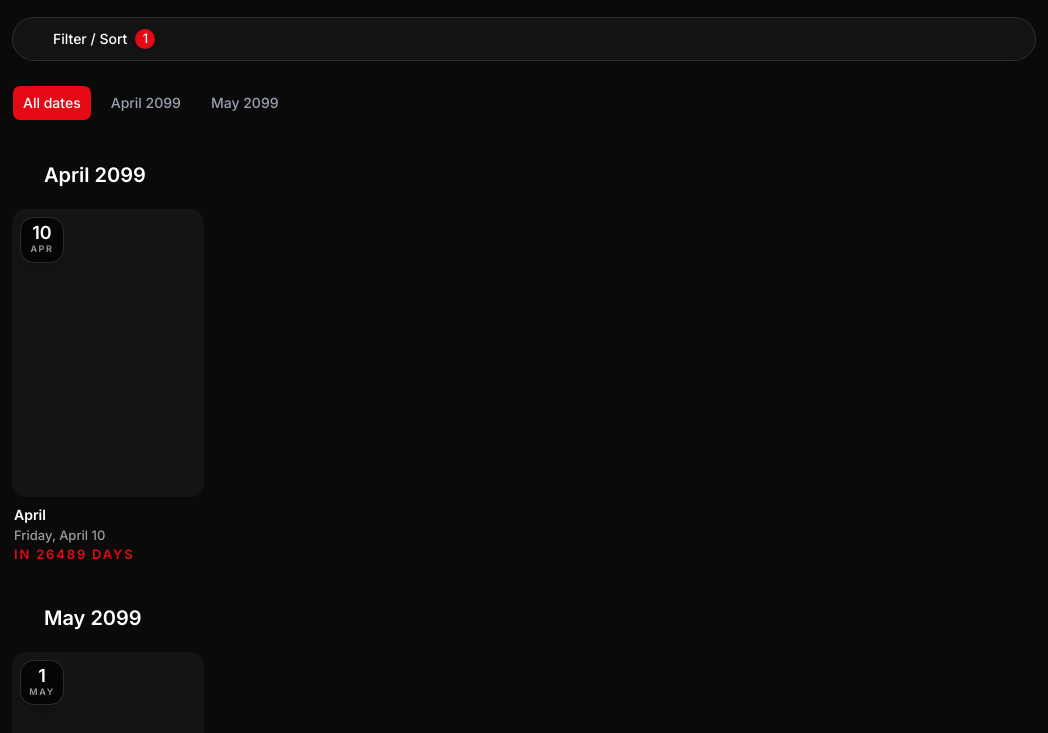
ReleaseCalendarView › uses temporal tabs as date filters without scrolling rows
The image size is (1048, 733).
Expected: the button with test id "release-calendar-temporal-tab-all-dates" is shown, [12, 85, 92, 121]
Expected: the heading "April" is shown, [14, 506, 46, 523]
What coordinates should you click on to do the following:
click the button with test id "release-calendar-temporal-tab-month-2099-05"
I would click on:
 (245, 103)
Its box is [200, 85, 290, 121].
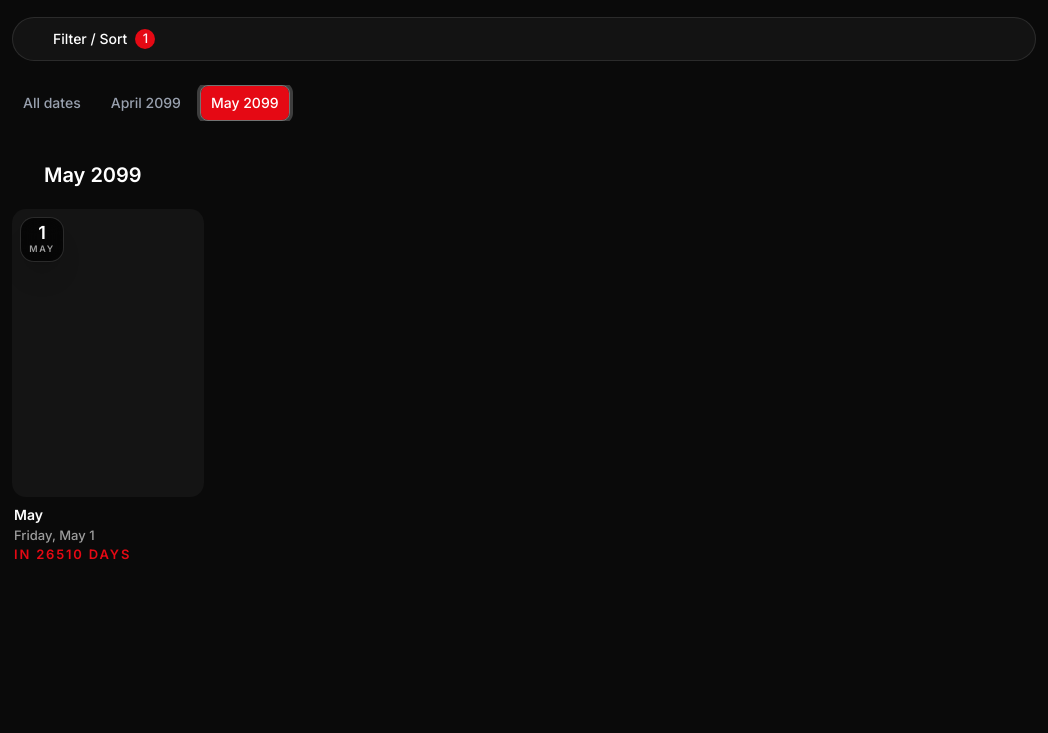
Expected: the heading "May" is shown, [14, 506, 43, 523]
Expected: the button with test id "release-calendar-temporal-tab-month-2099-05" is pressed, [200, 85, 290, 121]
What coordinates should you click on to do the following:
click the button with test id "release-calendar-temporal-tab-all-dates"
I would click on:
 (52, 103)
Its box is [12, 85, 92, 121].
(page scrolled)
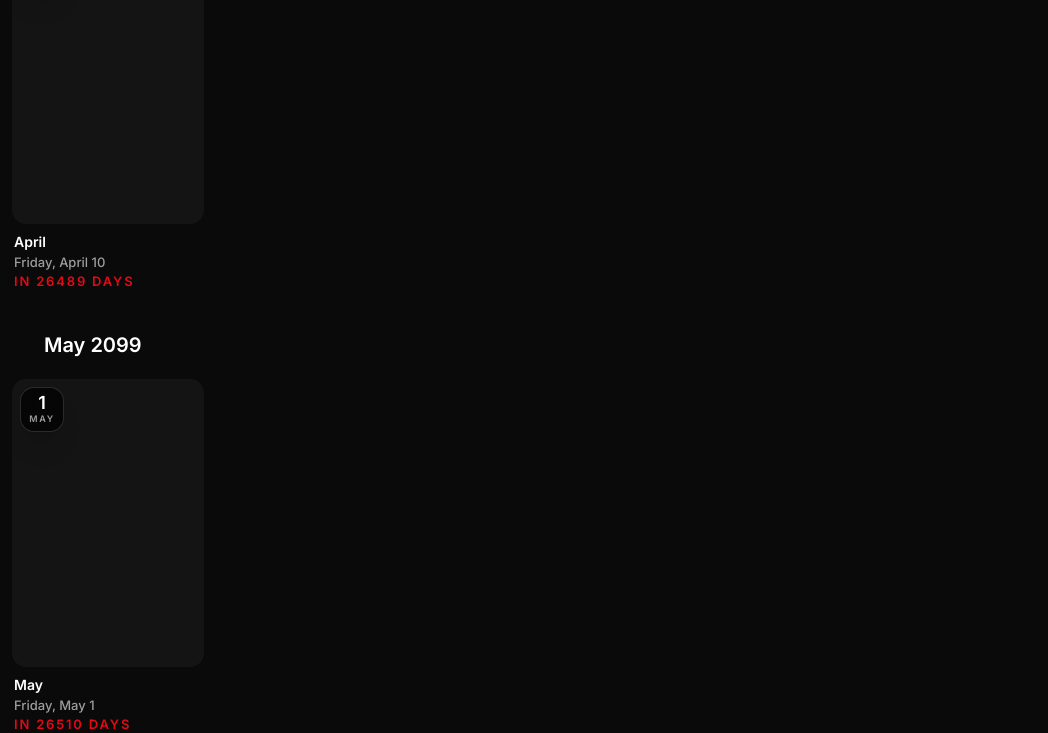
Expected: the heading "May" is shown, [14, 676, 43, 693]
Expected: the heading "April" is shown, [14, 233, 46, 250]
